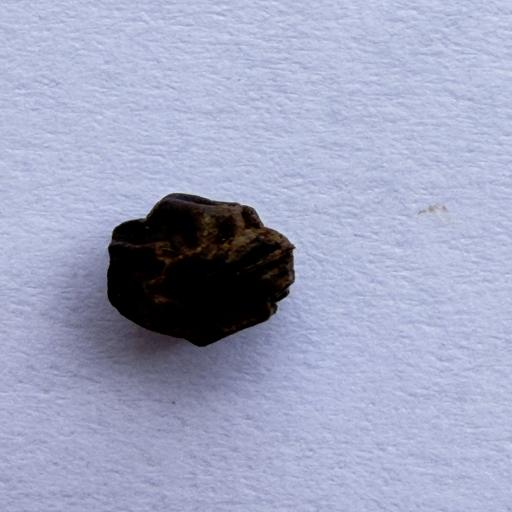Black_pepper: (39, 158, 357, 360)
